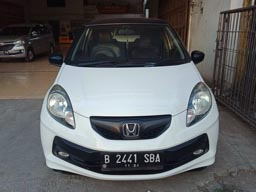plat: (101, 153, 163, 163)
